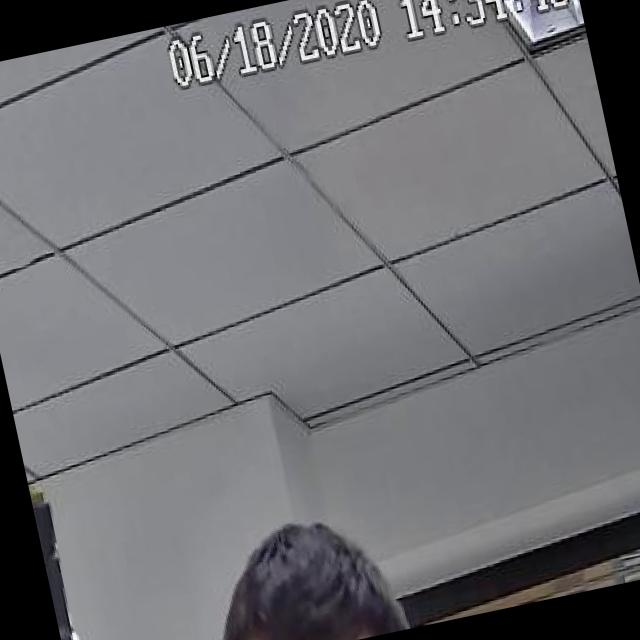Guns: (19, 431, 136, 640)
